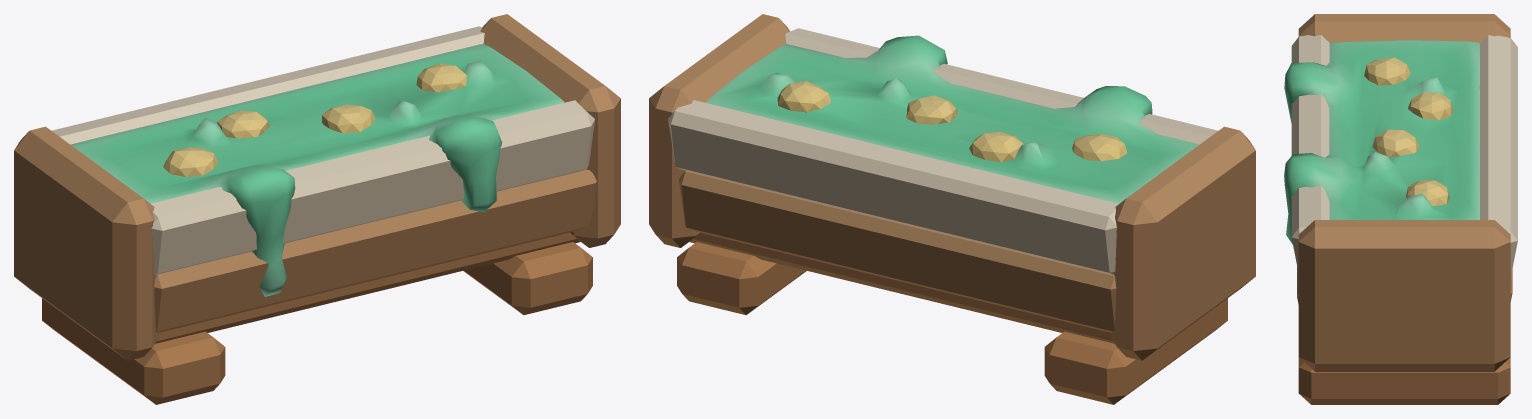
File: ranch_feed_trough.fbx
3 views of the same model, side by side, from view 1: azimuth 30°, elevation 25°; view 2: azimuth 150°, elevation 25°; view 3: azimuth 270°, elevation 25° (orthographic). The views are drawn at different scales.
Parts seen in each view (by area): view 1: ranch_feed_trough; view 2: ranch_feed_trough; view 3: ranch_feed_trough.
Boxes of the visible parts, <box> form: ranch_feed_trough: <box>14,14,620,404</box>; ranch_feed_trough: <box>649,14,1255,404</box>; ranch_feed_trough: <box>1284,14,1517,404</box>.
Bounding box in the file's own units: 5.95 × 2.38 × 2.59.
